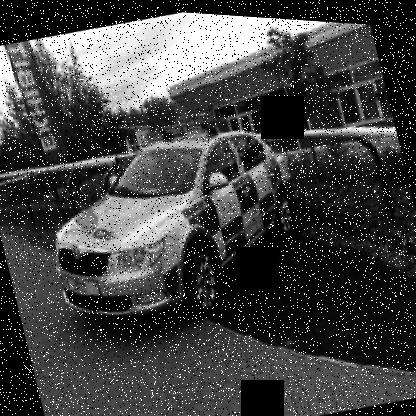emergency: (17, 87, 342, 356)
